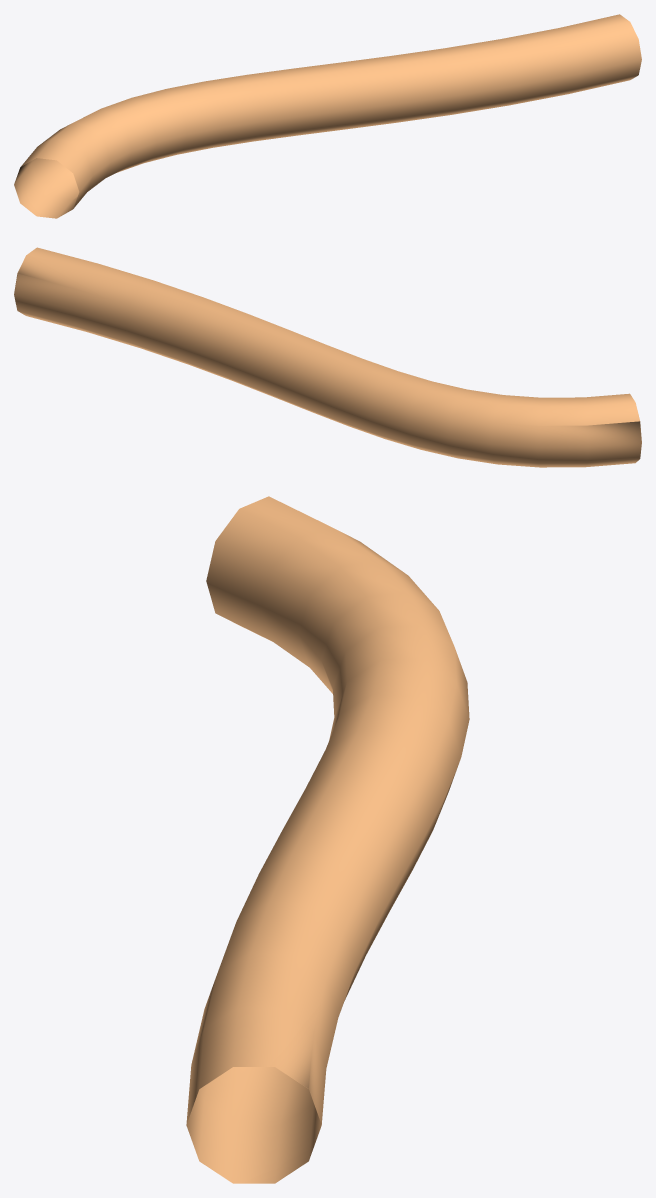
Rendered from worm.glb.
3 renders of one model, top to bottom at view 1: azimuth 30°, elevation 25°; view 2: azimuth 150°, elevation 25°; view 3: azimuth 270°, elevation 25°, orthographic. The views are drawn at different scales.
Parts seen in each view (by area): view 1: BezierCurve; view 2: BezierCurve; view 3: BezierCurve.
Boxes of the visible parts, box(x1,y1,x2,y2) form: BezierCurve: box(14, 14, 641, 218); BezierCurve: box(14, 247, 641, 467); BezierCurve: box(186, 496, 469, 1183).
Size of the model in its own units: 1.93 by 0.1799 by 0.3956.
1 material, 1 textured.
